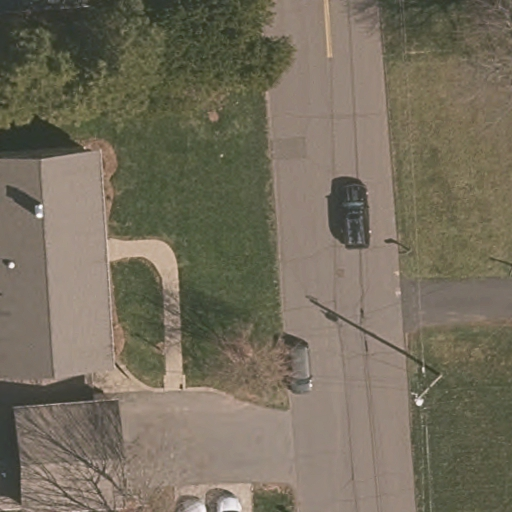DT: (408, 363, 451, 418)
